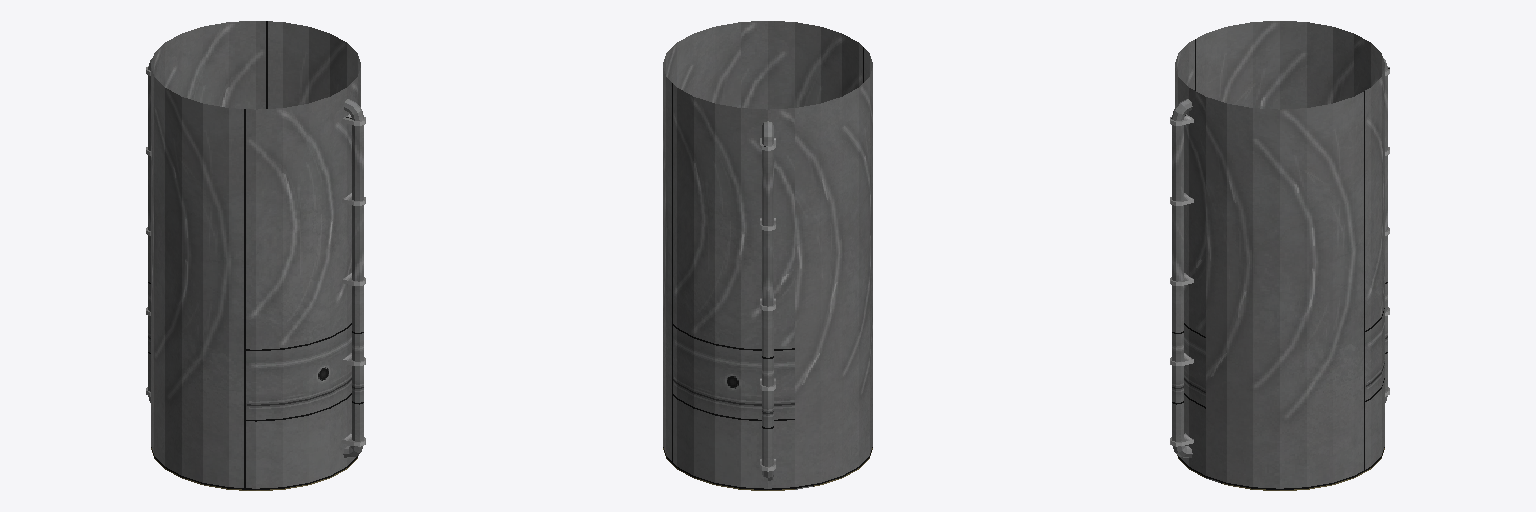
3 renders of one model, left to right at view 1: azimuth 30°, elevation 25°; view 2: azimuth 150°, elevation 25°; view 3: azimuth 270°, elevation 25°, orthographic.
Visible parts, largest first — view 1: mesh1; view 2: mesh1; view 3: mesh1.
Boxes of the visible parts, box(x1,y1,x2,y2) form: mesh1: box(146, 21, 365, 490); mesh1: box(663, 21, 872, 490); mesh1: box(1170, 21, 1389, 490).
Size of the model in its own units: 1.25 by 2.5 by 1.31.
1 materials, 1 textured.